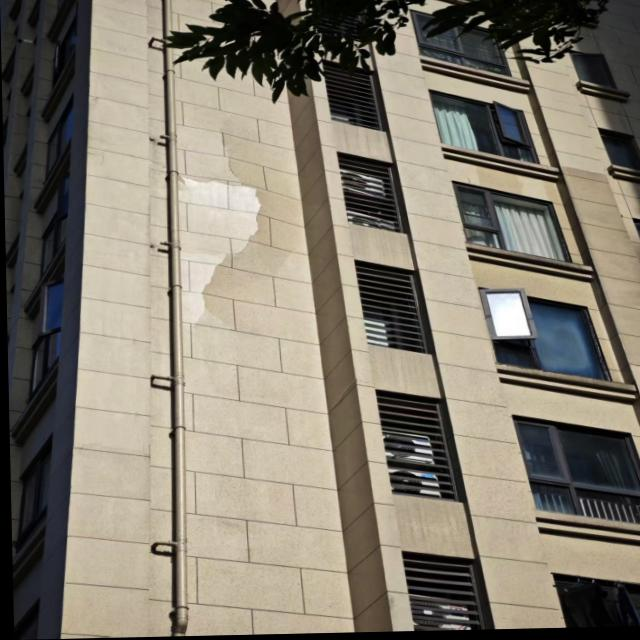hollowing: (180, 114, 304, 374)
